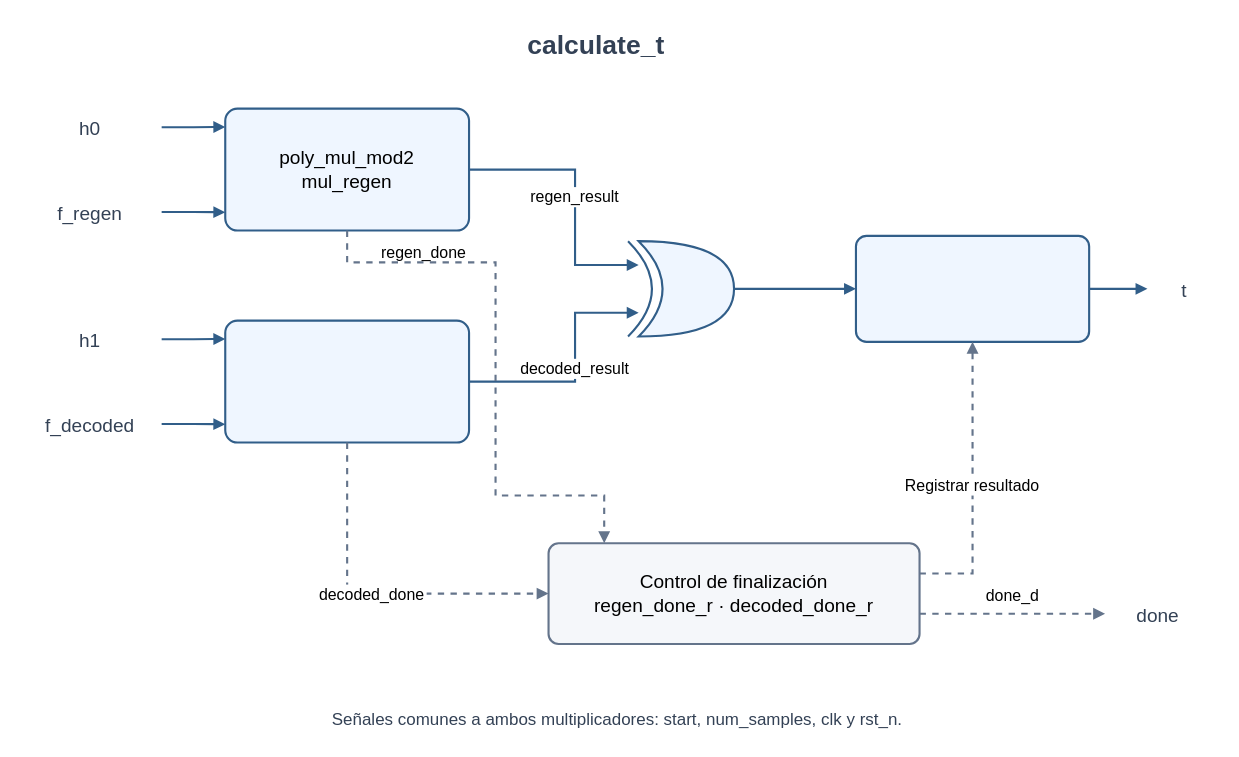
Some shapes in this 1239 by 757 pixel diagram are drawn without their labels. The shapes that lost their labels are listed below. From the top down, each one's centre as x and y in pixels, then its label:
point (972, 288): Registro de salida t_internal
point (347, 381): poly_mul_mod2 mul_decoded
